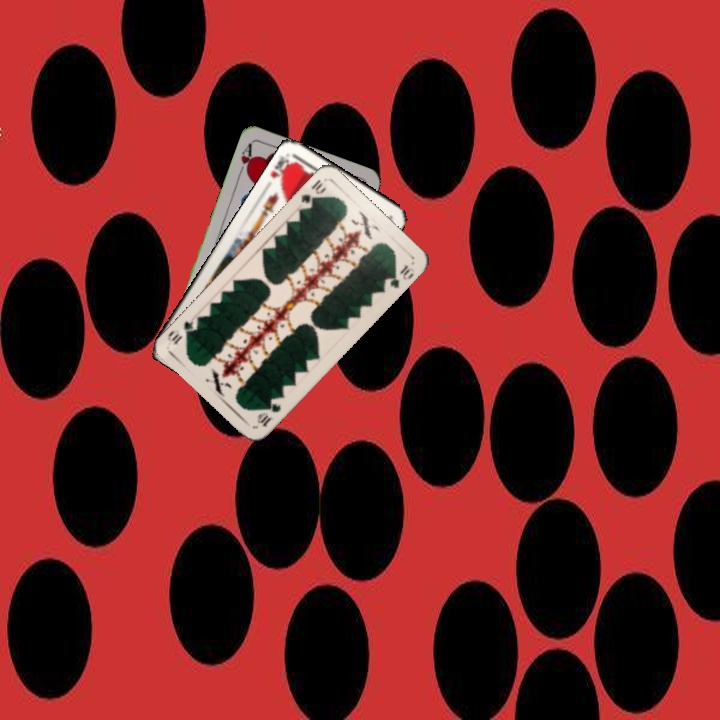G10: (253, 393, 284, 430), (297, 175, 329, 207)
HA: (234, 139, 257, 179)
HK: (266, 152, 297, 188)
